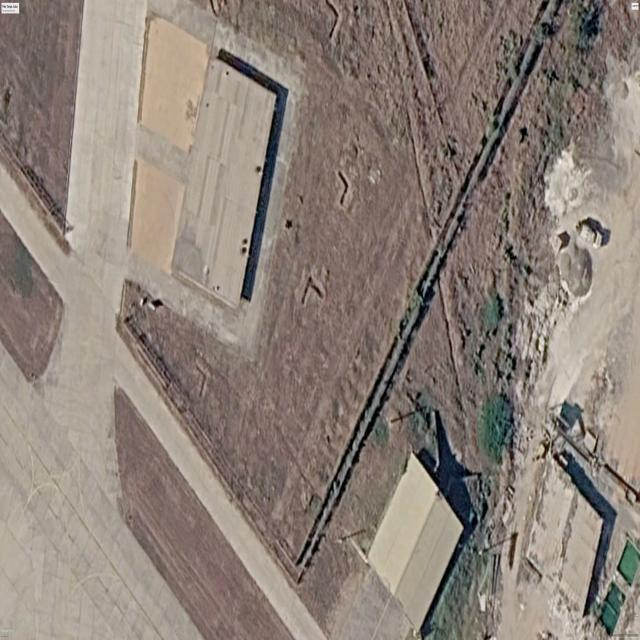Home: (172, 49, 277, 307), (368, 454, 463, 630), (526, 462, 602, 614)
